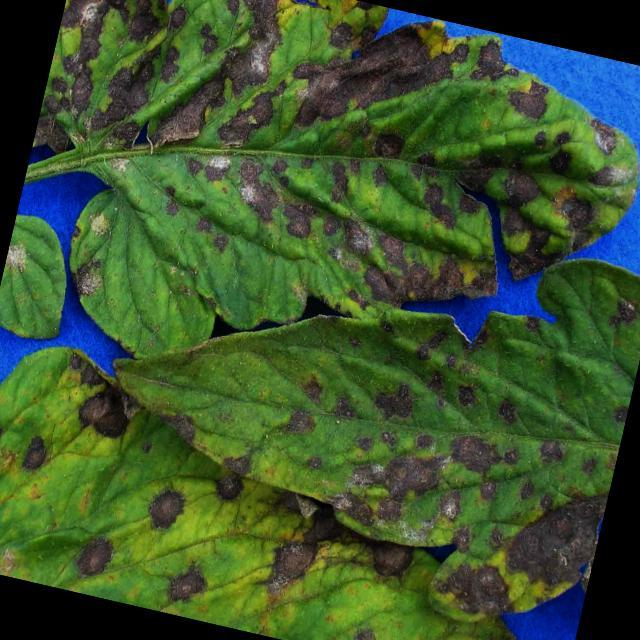Tomato Septoria spot leaf: (57, 142, 640, 640), (0, 0, 640, 450), (0, 322, 612, 640)
